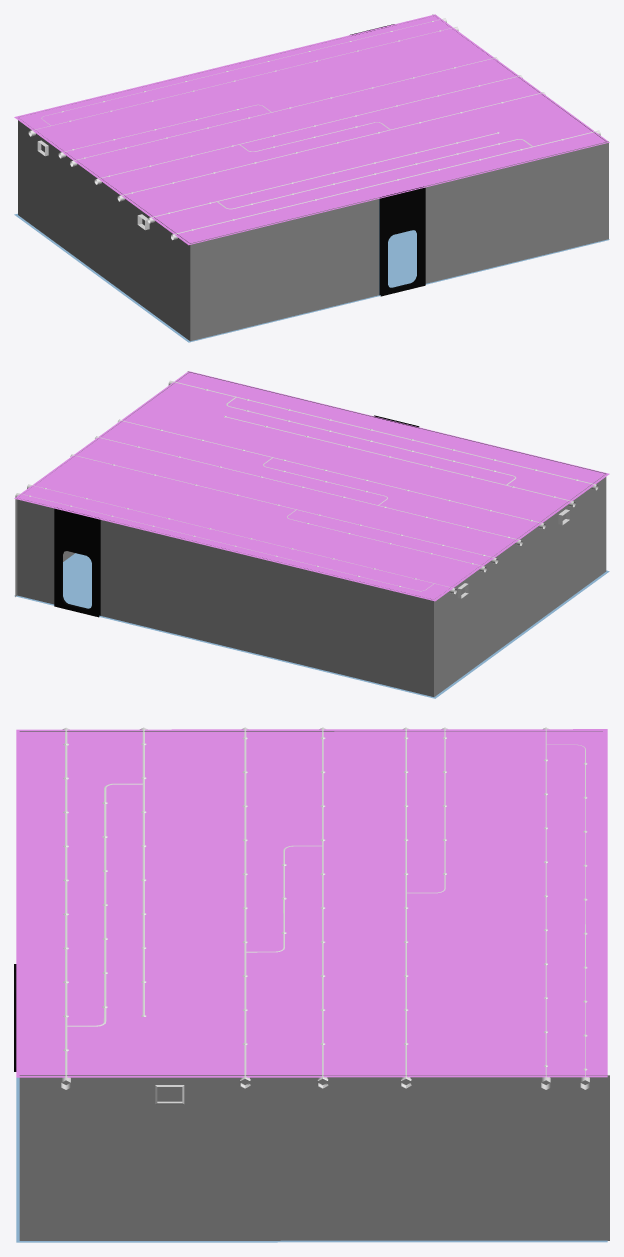
File: messhall.FBX
3 views of the same model, one above another, from view 1: azimuth 30°, elevation 25°; view 2: azimuth 150°, elevation 25°; view 3: azimuth 270°, elevation 25° (orthographic). The views are drawn at different scales.
Parts seen in each view (by area): view 1: Box024, Object096, Object095, Cylinder001, Object069, Box023; view 2: Box024, Object096, Cylinder001, Object097, Box023, Object094; view 3: Box024, Object094, Cylinder001, Box023.
Boxes of the visible parts, x1=… form: Box024: x1=14, y1=14, x2=609, y2=245; Object096: x1=18, y1=15, x2=434, y2=341; Object095: x1=424, y1=141, x2=608, y2=283; Cylinder001: x1=28, y1=18, x2=600, y2=240; Object069: x1=379, y1=186, x2=425, y2=296; Box023: x1=14, y1=199, x2=609, y2=342; Box024: x1=14, y1=371, x2=609, y2=601; Object096: x1=16, y1=427, x2=606, y2=696; Cylinder001: x1=15, y1=380, x2=598, y2=594; Object097: x1=54, y1=507, x2=100, y2=617; Box023: x1=14, y1=553, x2=609, y2=698; Object094: x1=15, y1=372, x2=189, y2=596; Box024: x1=16, y1=729, x2=607, y2=1077; Object094: x1=19, y1=1075, x2=609, y2=1240; Cylinder001: x1=61, y1=727, x2=589, y2=1089; Box023: x1=16, y1=1077, x2=607, y2=1242.
Size of the model in its own units: 141 by 30.92 by 100.
